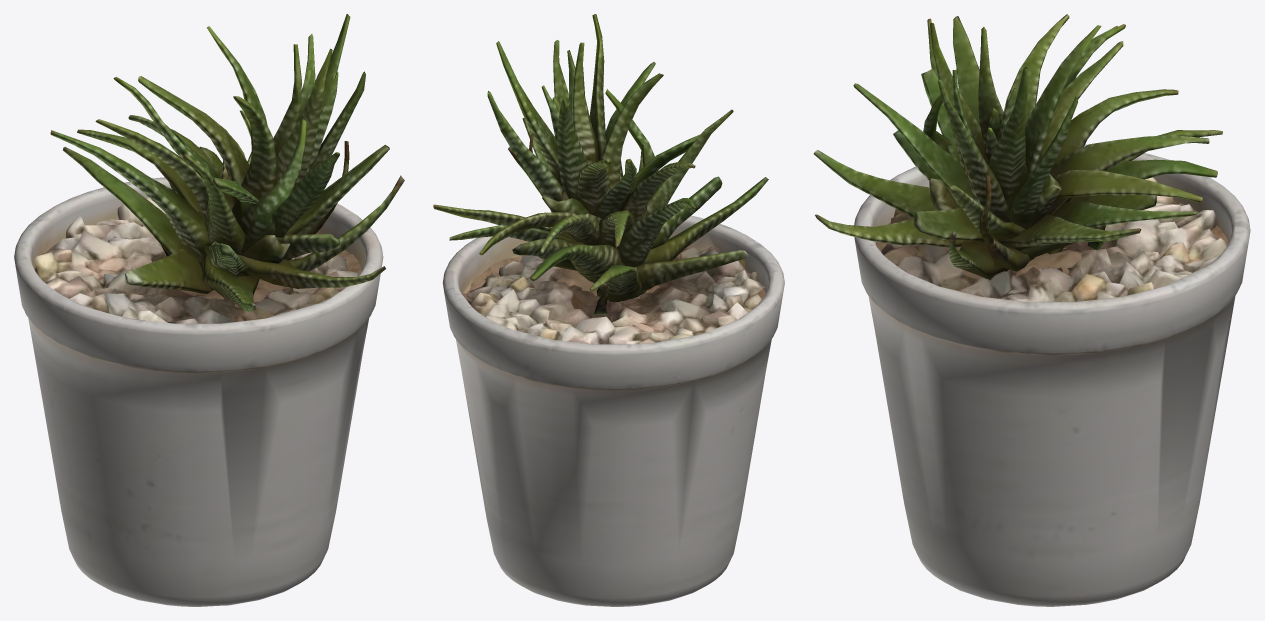
The model's file is potted_plant_04.glb.
3 views of the same model, side by side, from view 1: azimuth 30°, elevation 25°; view 2: azimuth 150°, elevation 25°; view 3: azimuth 270°, elevation 25° (orthographic). The views are drawn at different scales.
Visible parts, largest first — view 1: potted_plant_04_ground; view 2: potted_plant_04_ground; view 3: potted_plant_04_ground.
Part boxes in pixels (bbox=[...]): potted_plant_04_ground: bbox=[14, 14, 404, 606]; potted_plant_04_ground: bbox=[433, 14, 784, 606]; potted_plant_04_ground: bbox=[813, 14, 1250, 606].
Size of the model in its own units: 0.1679 by 0.2673 by 0.1848.
1 material, 1 textured.
